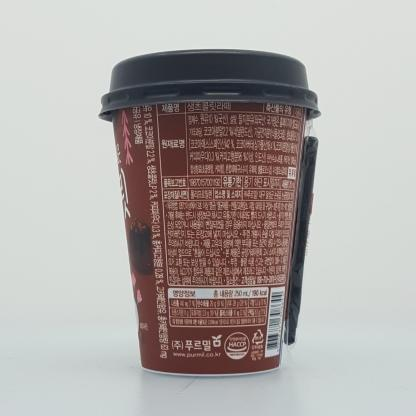----------250ML: (98, 49, 321, 376)
